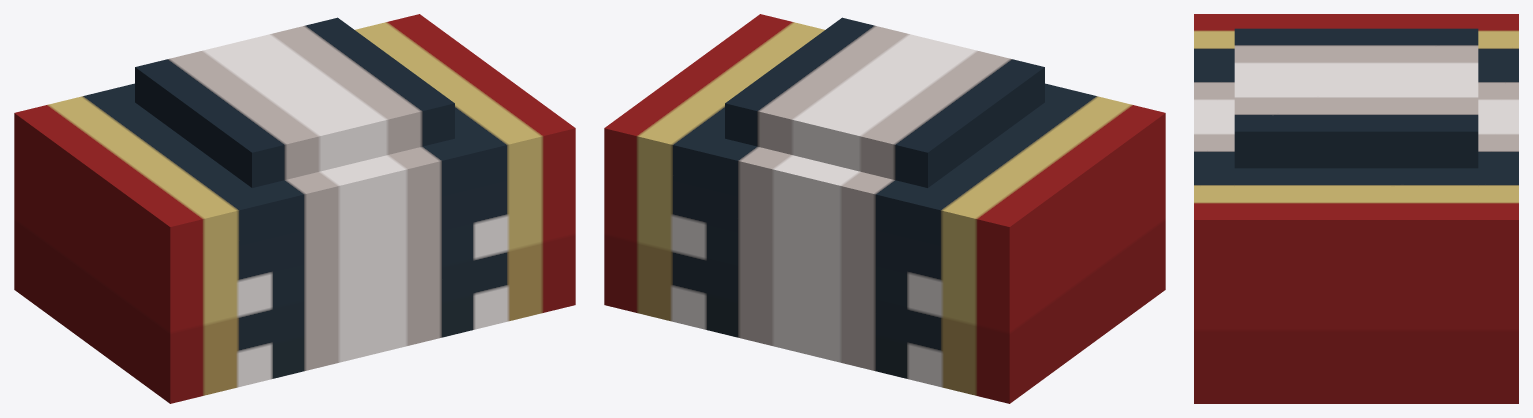
The model's file is Chest069.fbx.
The picture shows the model from 3 angles, left to right: view 1: azimuth 30°, elevation 25°; view 2: azimuth 150°, elevation 25°; view 3: azimuth 270°, elevation 25°; orthographic projection. The views are drawn at different scales.
Parts seen in each view (by area): view 1: Chest069; view 2: Chest069; view 3: Chest069.
Part boxes in pixels (x1,y1,x2,y2): Chest069: [14, 14, 575, 403]; Chest069: [604, 14, 1165, 403]; Chest069: [1194, 14, 1518, 403].
Bounding box in the file's own units: 12 × 6 × 8.
